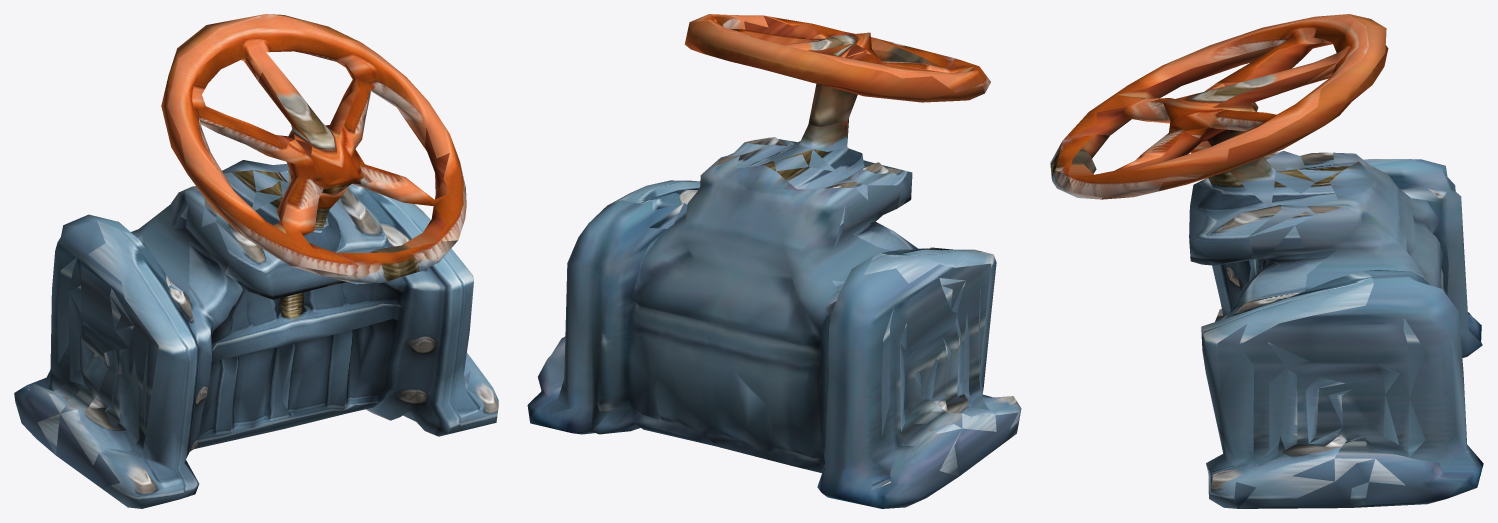
Rendered from sluice.glb.
3 renders of one model, left to right at view 1: azimuth 30°, elevation 25°; view 2: azimuth 150°, elevation 25°; view 3: azimuth 270°, elevation 25°, orthographic. The views are drawn at different scales.
Visible parts, largest first — view 1: SluiceHousing, Handwheel; view 2: SluiceHousing, Handwheel; view 3: SluiceHousing, Handwheel.
Boxes of the visible parts, bbox=[...] form: SluiceHousing: bbox=[14, 160, 498, 508]; Handwheel: bbox=[161, 14, 466, 275]; SluiceHousing: bbox=[527, 49, 1021, 508]; Handwheel: bbox=[684, 14, 990, 126]; SluiceHousing: bbox=[1050, 134, 1483, 508]; Handwheel: bbox=[1055, 14, 1388, 197].
Bounding box in the file's own units: 1 × 1 × 1.
Materials: 2 (2 with a texture image).
